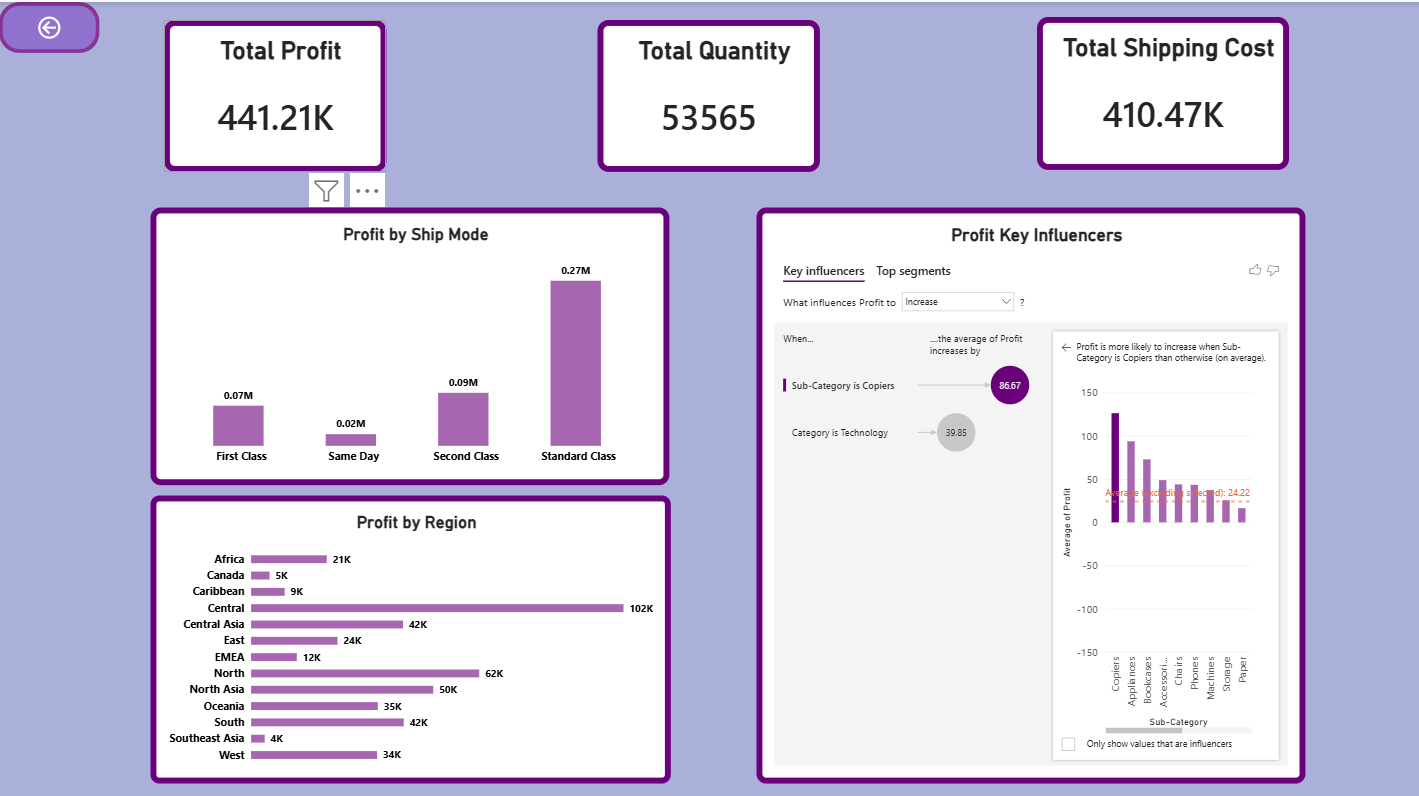

The dashboard page shown, as its layout file describes it:
{"tool":"powerbi","page":{"name":"Drillthrough_Profit","canvas":[1920,1080],"ordinal":4},"visuals":[{"type":"keyDriversVisual","title":"Profit Key Influencers","fields":{"ExplainBy":["Fact_Orders.Category Hierarchy.Category","Fact_Orders.Category Hierarchy.Sub-Category","Fact_Orders.Category Hierarchy.Product Name"],"Target":["Fact_Orders.Profit"]},"box":[1023.9,277.8,742.1,778.6],"z":0},{"type":"clusteredColumnChart","title":"Profit by Ship Mode","fields":{"Category":["Fact_Orders.Ship Mode"],"Y":["Sum(Fact_Orders.Profit)"]},"box":[204.8,277.8,701.5,375.1],"z":1000},{"type":"clusteredBarChart","title":"Profit by Region","fields":{"Category":["Fact_Orders.Region"],"Y":["Sum(Fact_Orders.Profit)"]},"box":[204.8,667.1,703.6,389.3],"z":2000},{"type":"card","title":"Total Profit","fields":{"Values":["Sum(Fact_Orders.Profit)"]},"box":[222.1,23.6,300.8,205.5],"z":3000},{"type":"card","title":"Total Quantity","fields":{"Values":["Sum(Fact_Orders.Quantity)"]},"box":[808,23.6,300.8,205.5],"z":4000},{"type":"card","title":"Total Shipping Cost","fields":{"Values":["Sum(Fact_Orders.Shipping Cost)"]},"box":[1403.1,20.3,340.6,206.8],"z":5000},{"type":"actionButton","box":[0,0,135.8,68.9],"z":6000}]}

Visuals, with their boxes in screenshot pixels (x1, y1, x2, y2), scaled from the page's 1920x1080 canvas onto the 1419x796 screenshot:
"Profit Key Influencers" keyDriversVisual: bbox(757, 205, 1305, 779)
"Profit by Ship Mode" clusteredColumnChart: bbox(151, 205, 670, 481)
"Profit by Region" clusteredBarChart: bbox(151, 492, 671, 779)
"Total Profit" card: bbox(164, 17, 386, 169)
"Total Quantity" card: bbox(597, 17, 819, 169)
"Total Shipping Cost" card: bbox(1037, 15, 1289, 167)
actionButton: bbox(0, 0, 100, 51)
